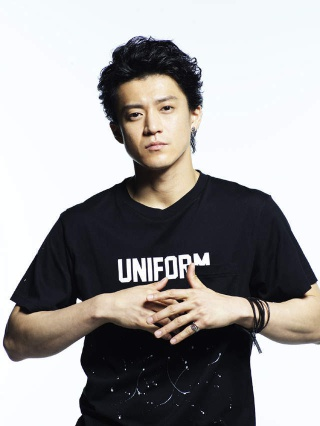male: (95, 37, 227, 176)
